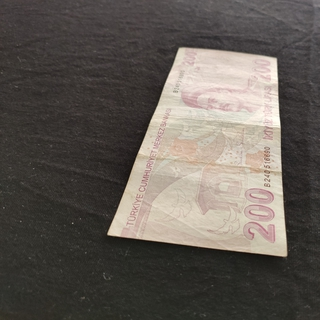200TLBack: (105, 46, 288, 257)
